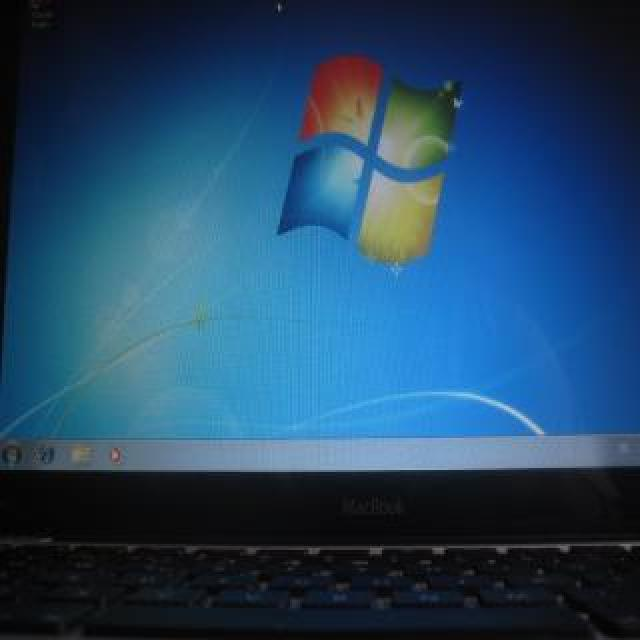laptop_computer: (6, 6, 636, 640)
